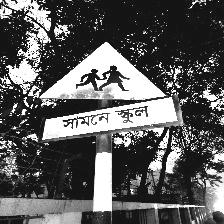School-in-front: (37, 42, 179, 140)
